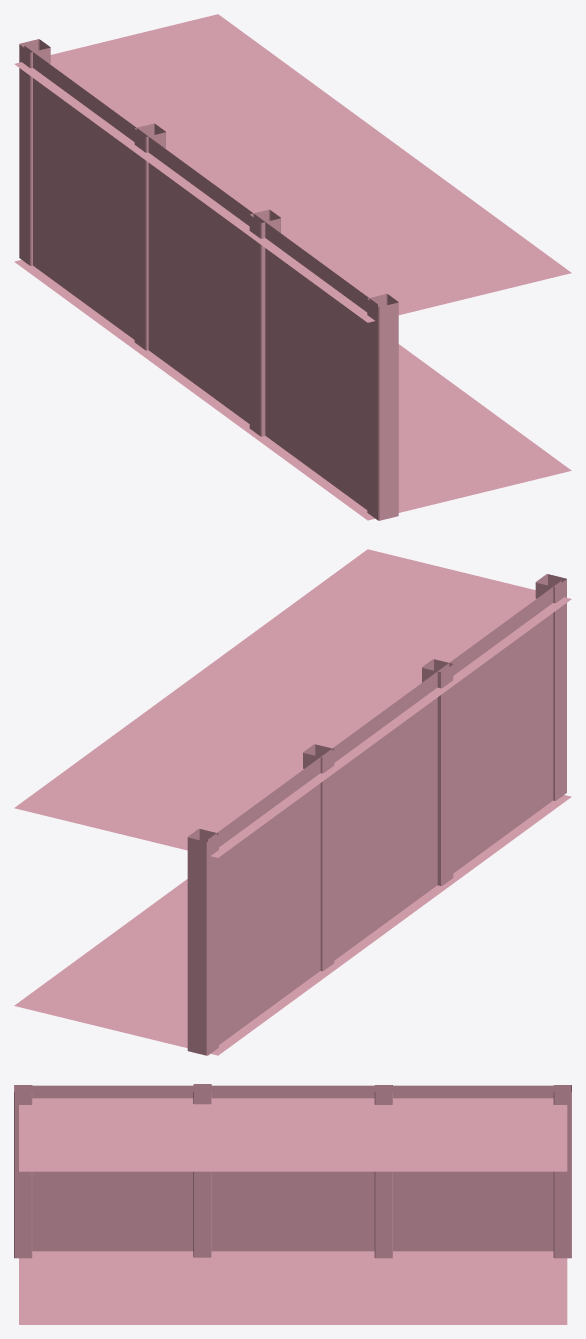
File: ApartmentStructureHallway.fbx
3 views of the same model, one above another, from view 1: azimuth 30°, elevation 25°; view 2: azimuth 150°, elevation 25°; view 3: azimuth 270°, elevation 25° (orthographic). The views are drawn at different scales.
Parts seen in each view (by area): view 1: ApartmentStructureHallway; view 2: ApartmentStructureHallway; view 3: ApartmentStructureHallway.
Part boxes in pixels (box(x1,y1,x2,y2)): ApartmentStructureHallway: box(14, 14, 571, 520); ApartmentStructureHallway: box(14, 549, 571, 1055); ApartmentStructureHallway: box(14, 1084, 571, 1324).
Bounding box in the file's own units: 400 × 400 × 1221.
